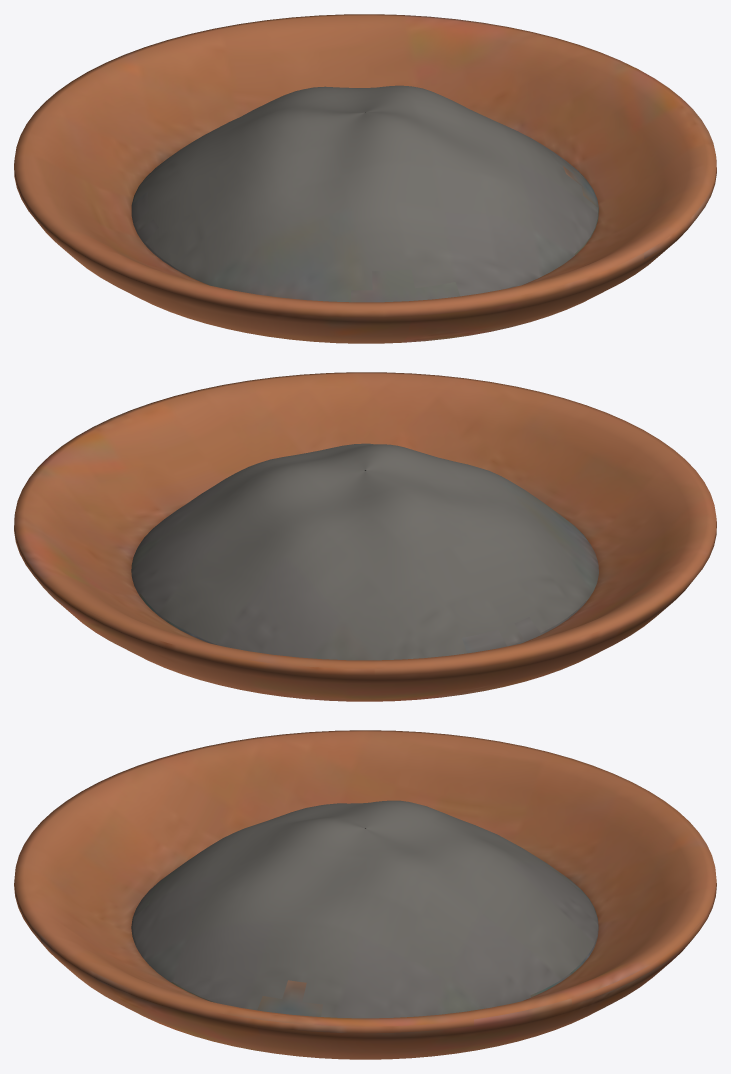
The model's file is wood_ash.glb.
The picture shows the model from 3 angles, top to bottom: view 1: azimuth 30°, elevation 25°; view 2: azimuth 150°, elevation 25°; view 3: azimuth 270°, elevation 25°; orthographic projection.
Visible parts, largest first — view 1: wood_ash; view 2: wood_ash; view 3: wood_ash.
Boxes of the visible parts, x1=… form: wood_ash: x1=14, y1=14, x2=716, y2=343; wood_ash: x1=14, y1=372, x2=716, y2=701; wood_ash: x1=14, y1=730, x2=716, y2=1059.
Bounding box in the file's own units: 0.0901 × 0.0216 × 0.0901.
1 material, 1 textured.
